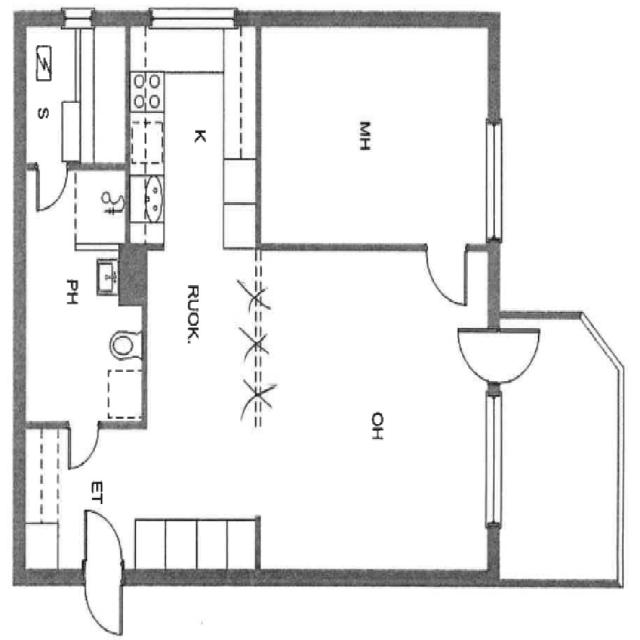door: (79, 504, 128, 638), (459, 320, 546, 390), (418, 239, 474, 313), (59, 418, 104, 477), (31, 160, 71, 218)
window: (476, 109, 514, 251), (479, 387, 510, 536), (141, 1, 243, 37), (59, 5, 95, 29)
zone: (257, 246, 494, 584), (250, 20, 498, 247), (488, 1, 640, 334), (145, 246, 261, 578), (496, 313, 621, 590), (127, 13, 263, 248), (20, 246, 146, 426), (20, 21, 130, 169), (134, 516, 259, 582), (71, 164, 129, 254), (473, 322, 545, 388)
